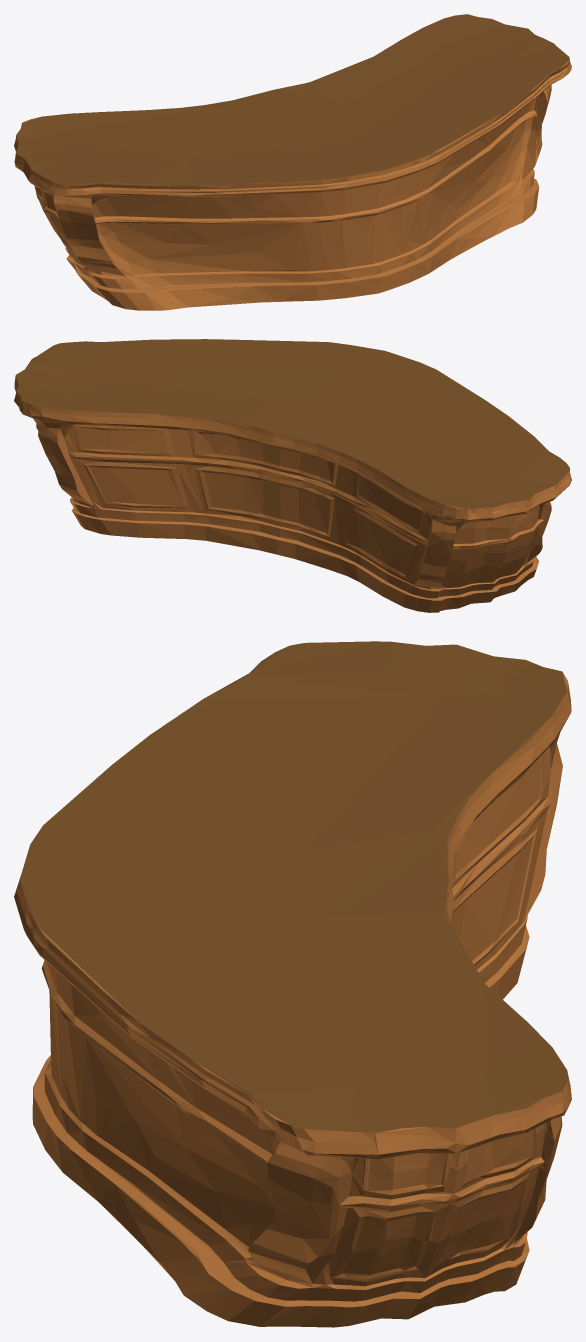
Rendered from potion_table.fbx.
3 views of the same model, one above another, from view 1: azimuth 30°, elevation 25°; view 2: azimuth 150°, elevation 25°; view 3: azimuth 270°, elevation 25° (orthographic). The views are drawn at different scales.
Visible parts, largest first — view 1: potion_table; view 2: potion_table; view 3: potion_table.
Part boxes in pixels (left/top/right/bottom): potion_table: left=14, top=14, right=571, bottom=310; potion_table: left=14, top=339, right=571, bottom=612; potion_table: left=14, top=641, right=571, bottom=1327.
Size of the model in its own units: 3.59 by 0.8448 by 1.7.
